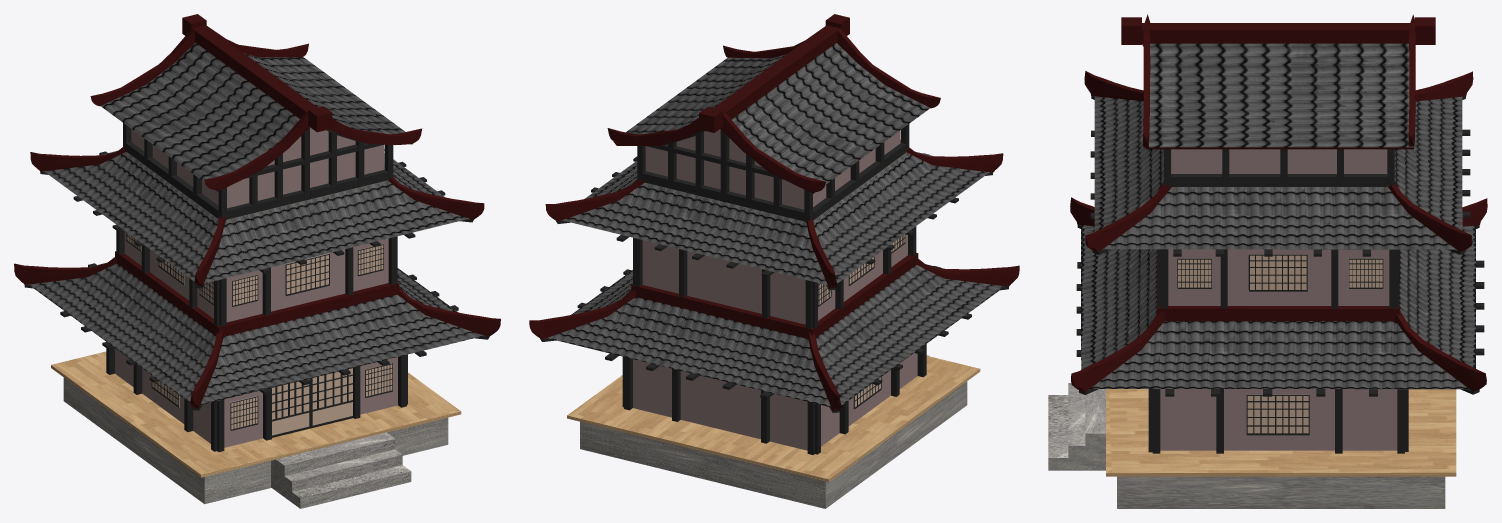
File: house_1.fbx
3 renders of one model, left to right at view 1: azimuth 30°, elevation 25°; view 2: azimuth 150°, elevation 25°; view 3: azimuth 270°, elevation 25°, orthographic. The views are drawn at different scales.
Parts seen in each view (by area): view 1: hideout1_official; view 2: hideout1_official; view 3: hideout1_official.
Boxes of the visible parts, x1=… form: hideout1_official: x1=14, y1=14, x2=500, y2=508; hideout1_official: x1=529, y1=14, x2=1019, y2=508; hideout1_official: x1=1048, y1=14, x2=1487, y2=508.
Bounding box in the file's own units: 76.36 × 84.26 × 80.25.
Materials: 10 (3 with a texture image).
